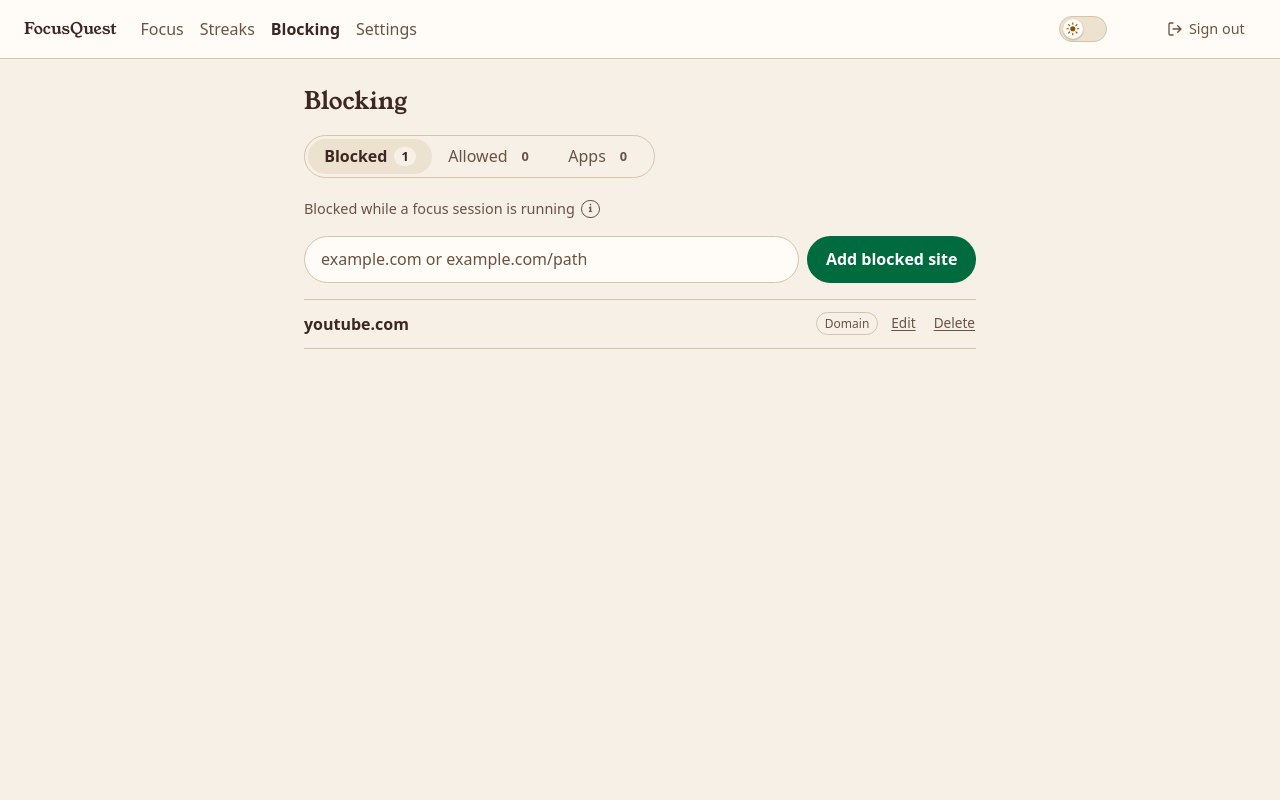
Scenario: BlockingRulesView › editing › edits a rule in a dialog and shows the change in the list
Step 1. Click the button with aria-label "Edit youtube.com" → (903, 324), box [890,312,917,335]
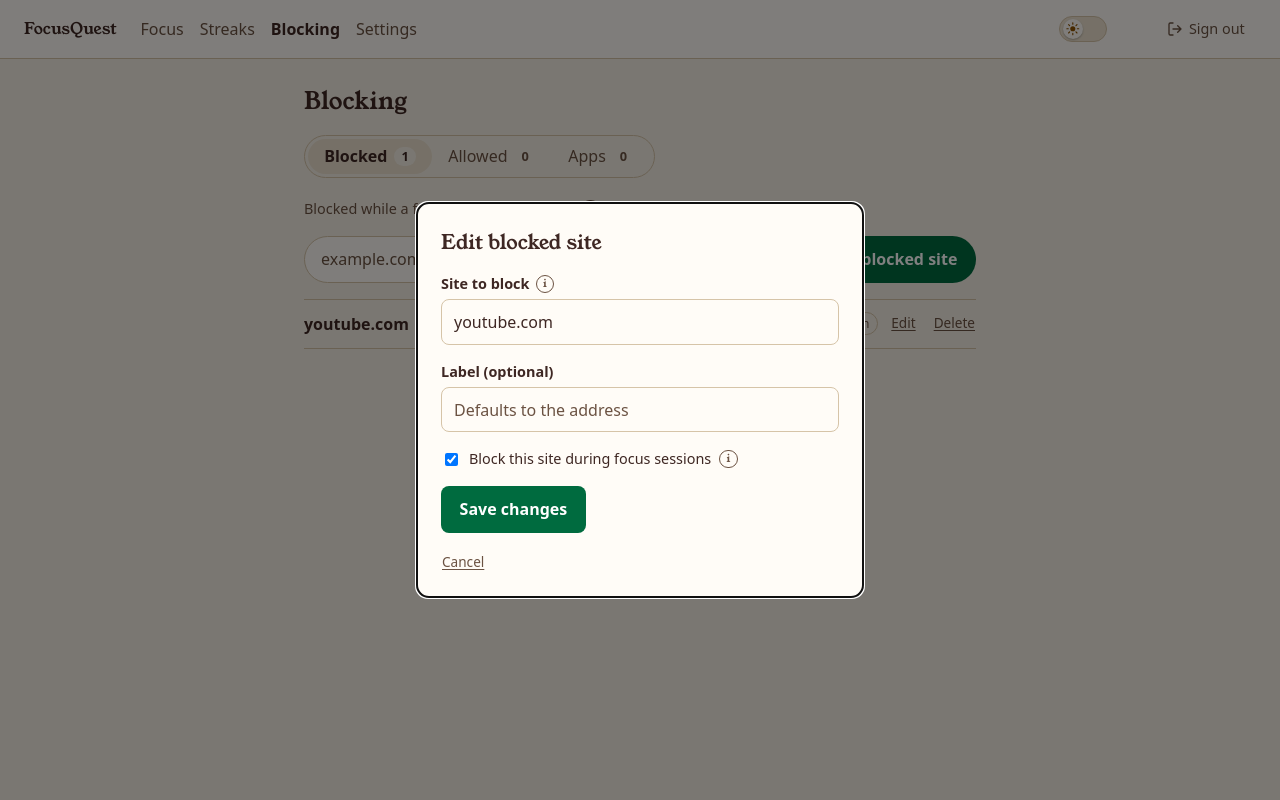
Check: the field labelled "Site to block" holds "youtube.com"
Step 2. Replace the text in the field labelled "Site to block" with "youtube.com/shorts" → (640, 322), box [441,299,839,345]
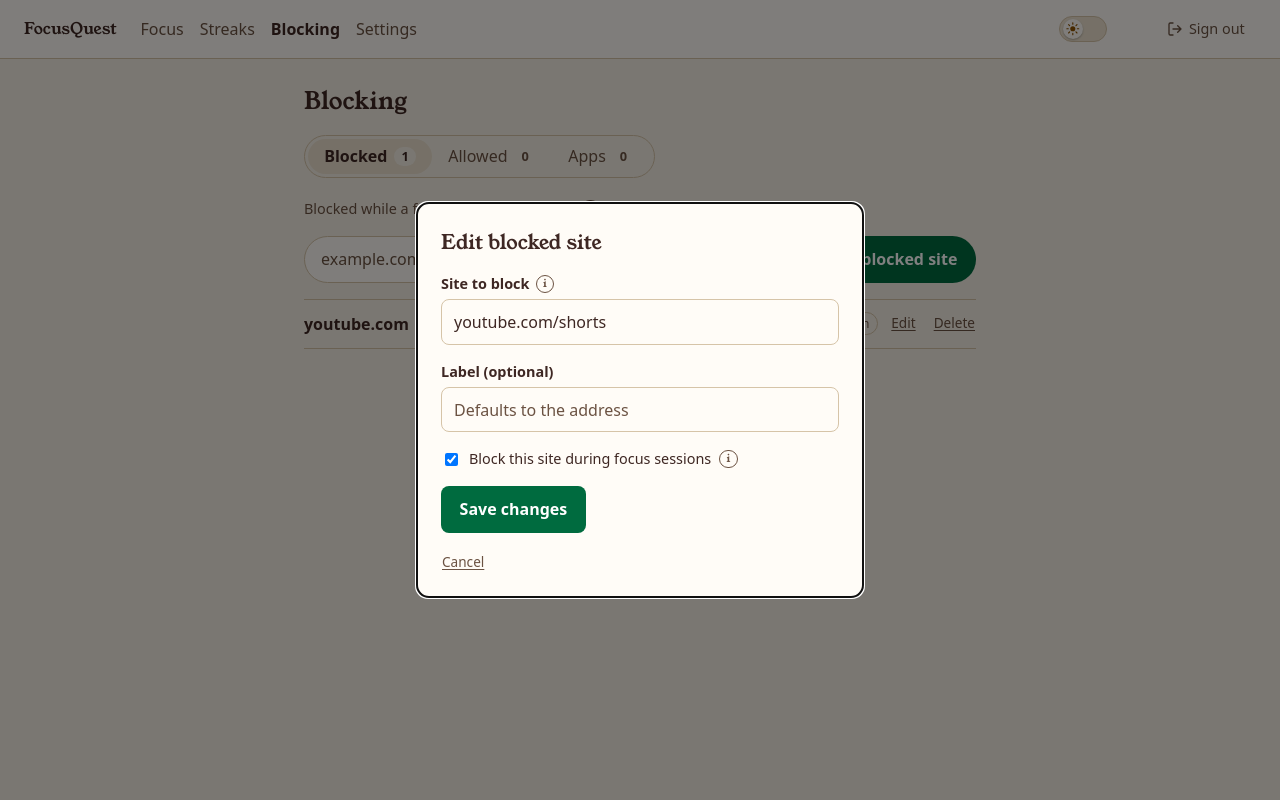
Step 3. Submit the form named "Edit blocked site", box [441,273,839,533]
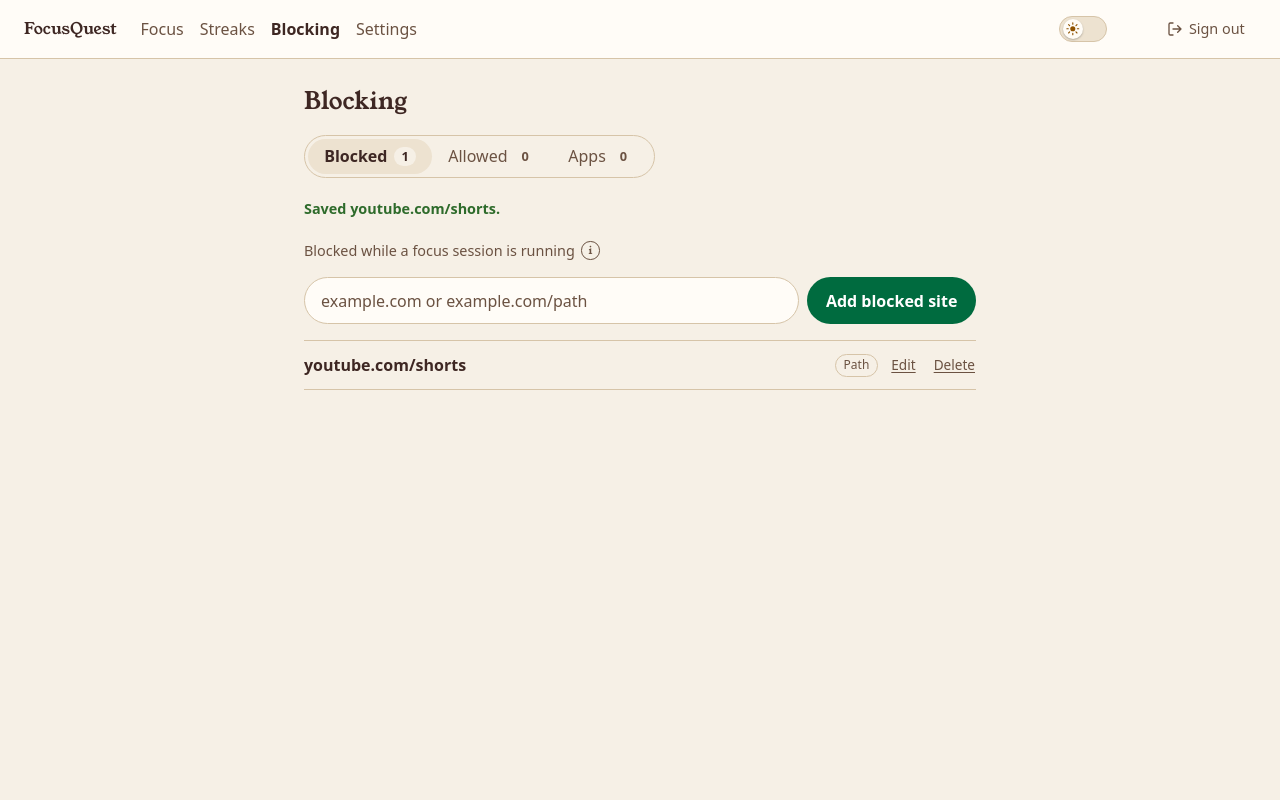
Check: the number of list items is 1, box [304,340,976,390]
Check: the list item "youtube.com/shorts Path Edit Delete" is shown, box [304,340,976,390]
